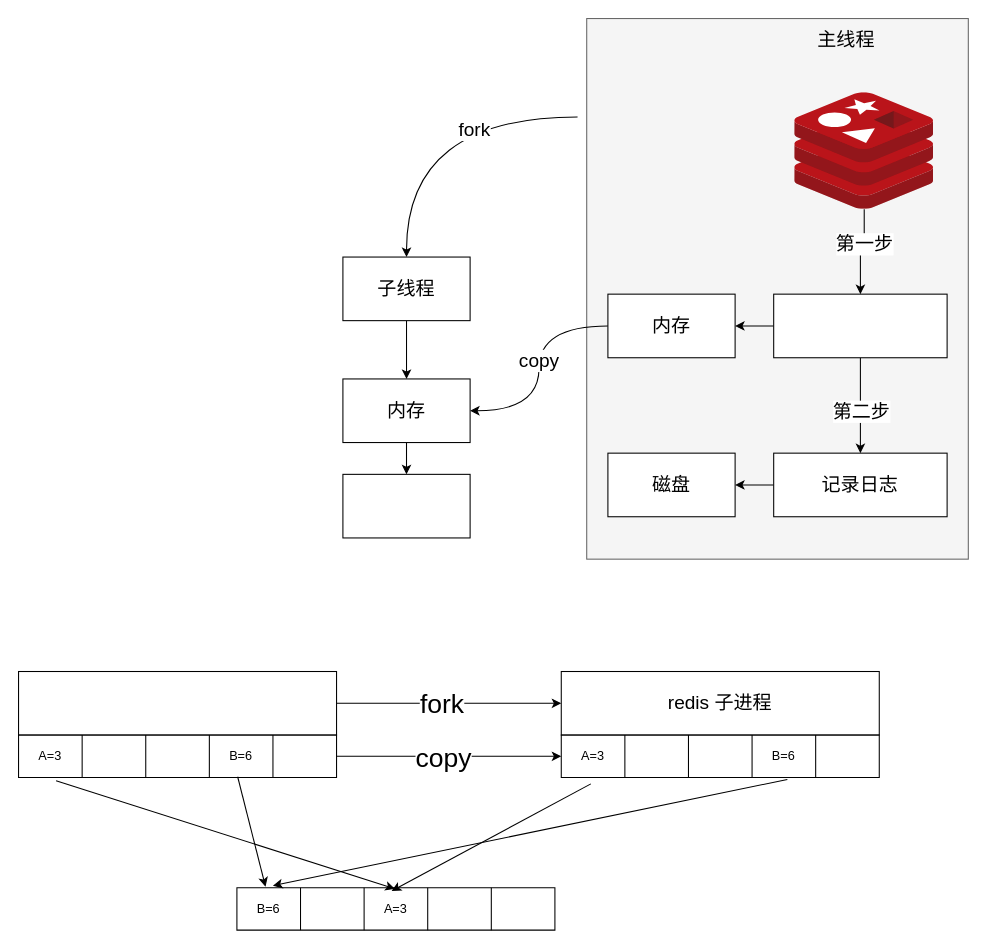
The diagram is 987 pixels wide and 949 high, and some of its shapes have lost their labels. Each missing label, with the centre of its shape:
"redis 主进程" belongs at pixel 177 702.
"执行命令" belongs at pixel 860 325.
"重写日志" belongs at pixel 406 505.
